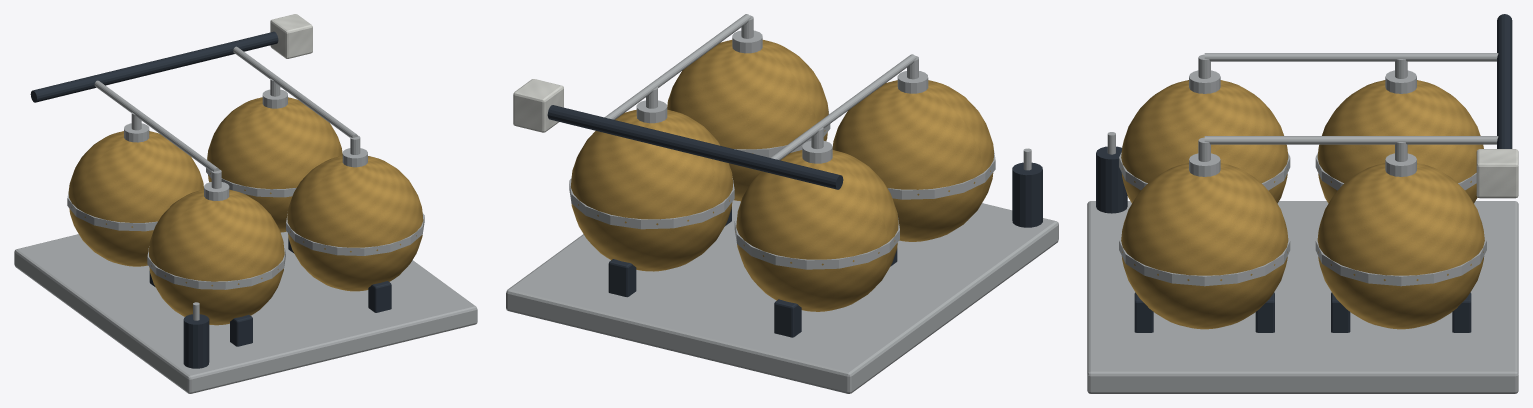
Rendered from fuel_module_large.glb.
The picture shows the model from 3 angles, left to right: view 1: azimuth 30°, elevation 25°; view 2: azimuth 150°, elevation 25°; view 3: azimuth 270°, elevation 25°; orthographic projection. The views are drawn at different scales.
Visible parts, largest first — view 1: Tank_MountingPlate.002, Propellant_PressureVessel.005, Propellant_PressureVessel.003, Propellant_PressureVessel.004, Propellant_PressureVessel.006, Feed_Manifold.002, Valve_Controller.002, Pressurant_Bottle.002, Tank_EquatorialBand.003, Tank_EquatorialBand.005, Branch_Line.003, Branch_Line.005 (+7 smaller); view 2: Tank_MountingPlate.002, Propellant_PressureVessel.004, Propellant_PressureVessel.006, Propellant_PressureVessel.003, Propellant_PressureVessel.005, Feed_Manifold.002, Valve_Controller.002, Pressurant_Bottle.002, Tank_EquatorialBand.004, Tank_EquatorialBand.006, Branch_Line.003, Branch_Line.005 (+7 smaller); view 3: Tank_MountingPlate.002, Propellant_PressureVessel.005, Propellant_PressureVessel.006, Propellant_PressureVessel.003, Propellant_PressureVessel.004, Branch_Line.003, Branch_Line.005, Valve_Controller.002, Feed_Manifold.002, Tank_EquatorialBand.005, Tank_EquatorialBand.006, Pressurant_Bottle.002 (+10 smaller).
Boxes of the visible parts, x1,y1,x2,y2 form: Tank_MountingPlate.002: (14,231,477,393); Propellant_PressureVessel.005: (287,156,423,291); Propellant_PressureVessel.003: (148,189,284,325); Propellant_PressureVessel.004: (68,131,203,266); Propellant_PressureVessel.006: (207,97,342,232); Feed_Manifold.002: (30,31,278,102); Valve_Controller.002: (270,14,312,58); Pressurant_Bottle.002: (183,314,209,368); Tank_EquatorialBand.003: (147,246,285,289); Tank_EquatorialBand.005: (286,213,424,255); Branch_Line.003: (94,80,219,171); Branch_Line.005: (233,46,357,137); Tank_MountingPlate.002: (506,200,1058,393); Propellant_PressureVessel.004: (735,150,898,311); Propellant_PressureVessel.006: (571,109,733,271); Propellant_PressureVessel.003: (832,80,994,241); Propellant_PressureVessel.005: (667,40,828,201); Feed_Manifold.002: (547,105,843,189); Valve_Controller.002: (513,79,563,132); Pressurant_Bottle.002: (1012,162,1042,227); Tank_EquatorialBand.004: (734,218,899,269); Tank_EquatorialBand.006: (569,178,734,229); Branch_Line.003: (770,54,916,160); Branch_Line.005: (604,14,750,119); Tank_MountingPlate.002: (1087,201,1518,393); Propellant_PressureVessel.005: (1121,163,1288,329); Propellant_PressureVessel.006: (1317,163,1484,329); Propellant_PressureVessel.003: (1121,80,1288,203); Propellant_PressureVessel.004: (1317,80,1483,203); Branch_Line.003: (1204,53,1498,61); Branch_Line.005: (1204,136,1498,144); Valve_Controller.002: (1476,149,1518,198); Feed_Manifold.002: (1497,14,1512,148); Tank_EquatorialBand.005: (1119,235,1290,286); Tank_EquatorialBand.006: (1315,235,1486,286); Pressurant_Bottle.002: (1096,146,1127,213).
Size of the model in its own units: 1.17 by 0.715 by 1.23.
4 materials, 2 textured.
